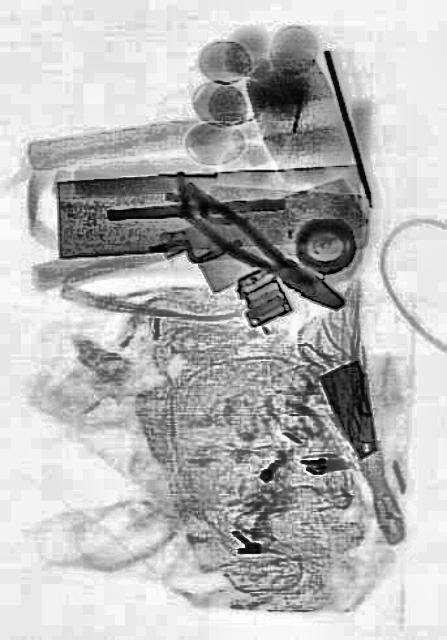Pliers: (170, 177, 348, 326)
